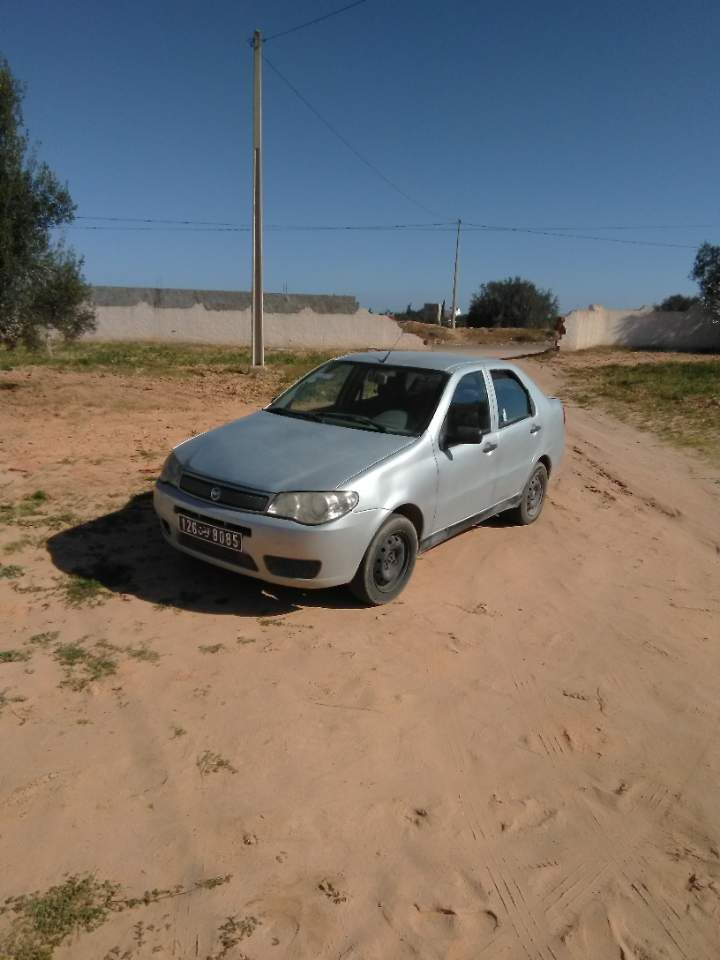LP: (177, 512, 243, 550)
